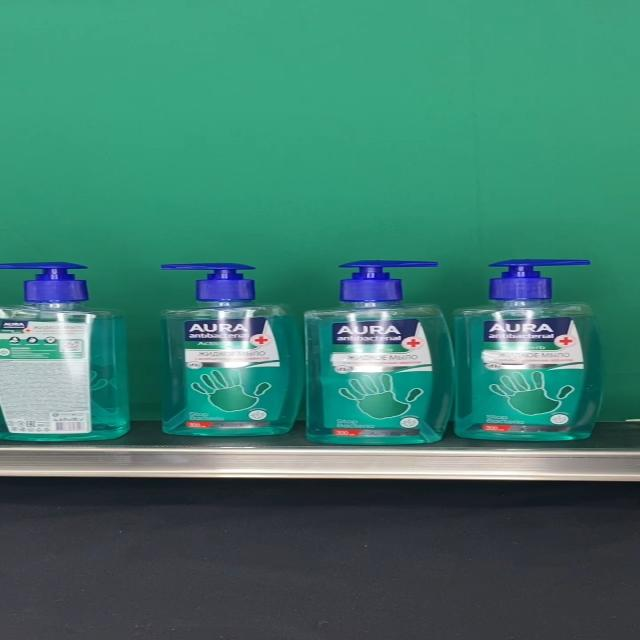Bottle: (304, 260, 456, 444), (454, 258, 604, 441), (160, 264, 304, 436), (0, 260, 131, 441)
Cap: (488, 259, 589, 303), (338, 260, 440, 302), (160, 263, 255, 301), (0, 261, 90, 301)
